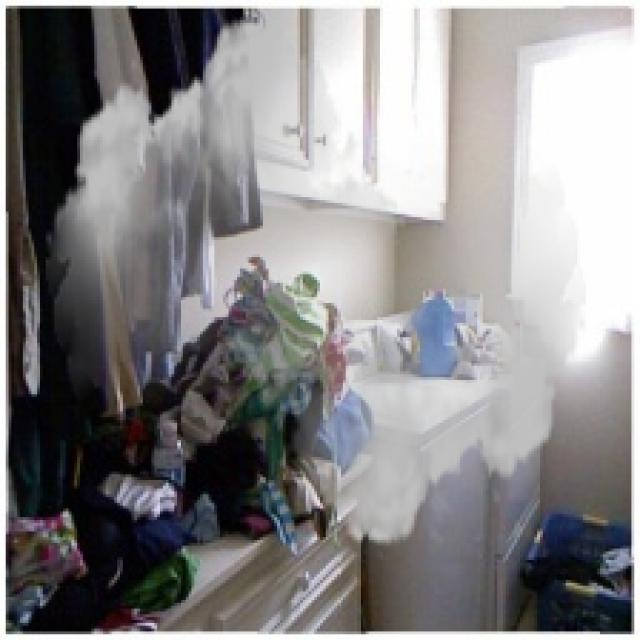smoke: (46, 0, 586, 563)
